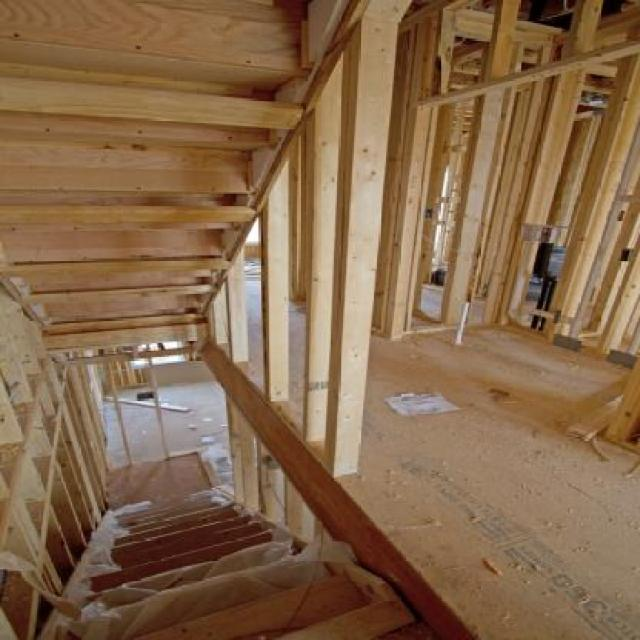stair: (0, 486, 434, 640)
